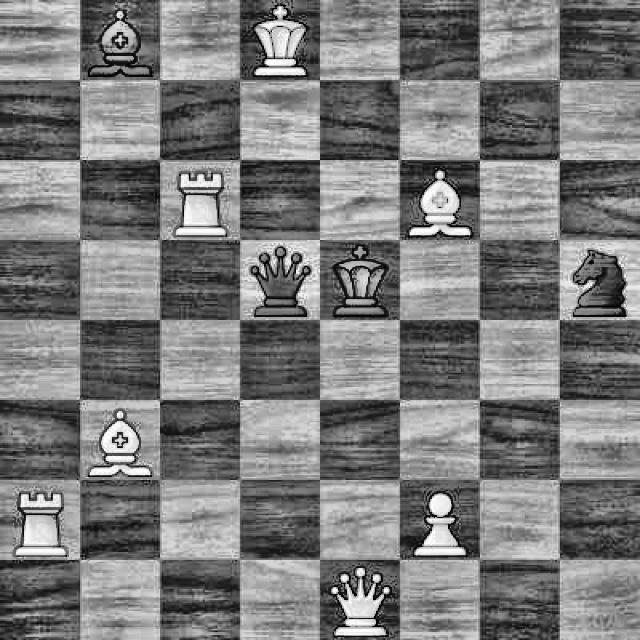Black Knight: (560, 242, 639, 318)
black bishop: (82, 3, 157, 80)
black king: (321, 241, 399, 319)
black queen: (240, 241, 318, 318)
white bishop: (80, 402, 159, 480), (402, 163, 479, 239)
white king: (242, 1, 316, 80)
white pawn: (1, 479, 78, 563), (400, 482, 477, 558)
white queen: (320, 560, 398, 640)
white rook: (160, 159, 240, 237)
